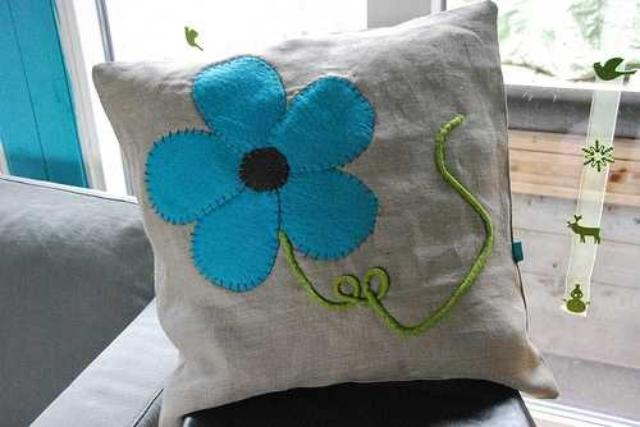pillow: (92, 0, 560, 424)
